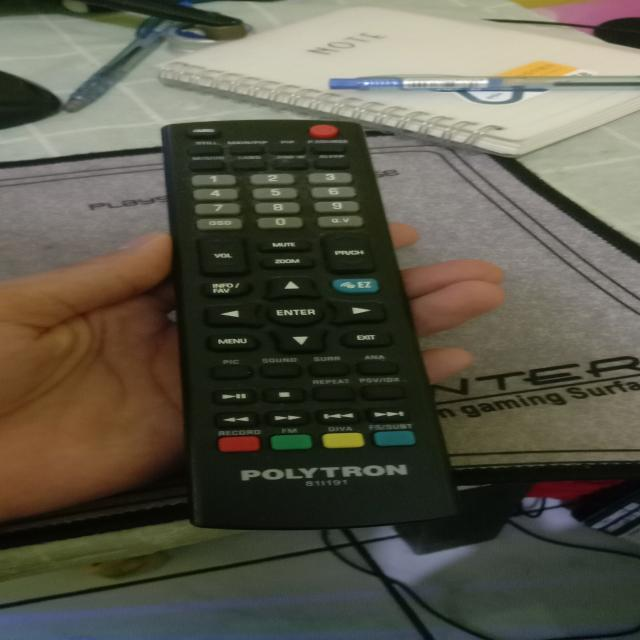pen: (328, 76, 640, 93)
remote: (160, 115, 438, 528)
